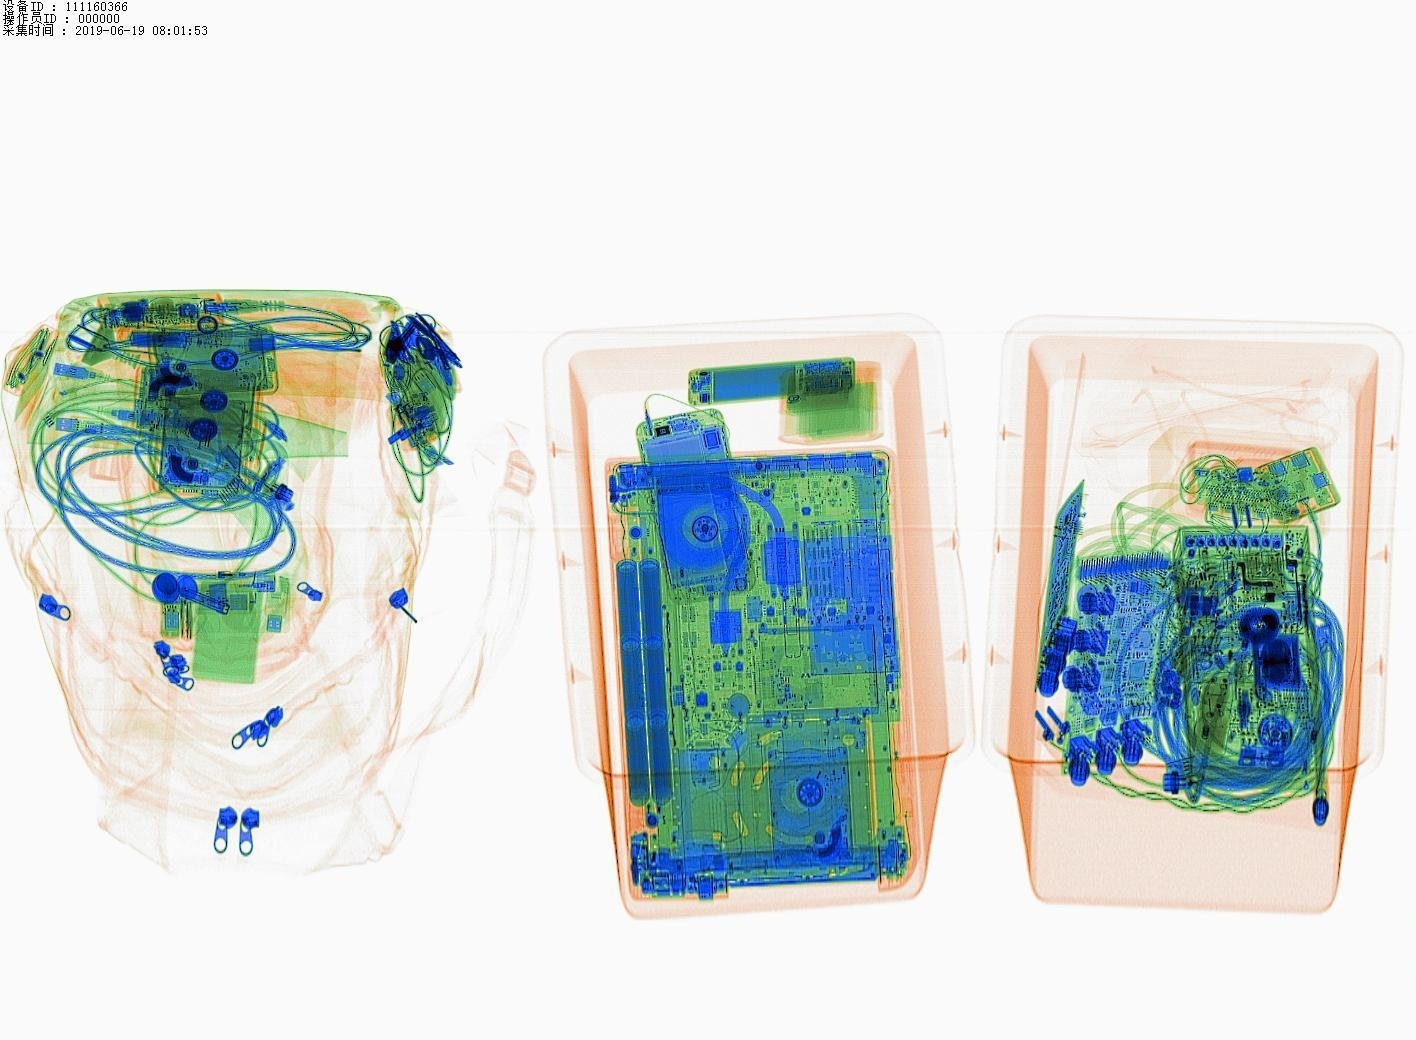NonmetallicFire: (146, 549, 305, 606)
